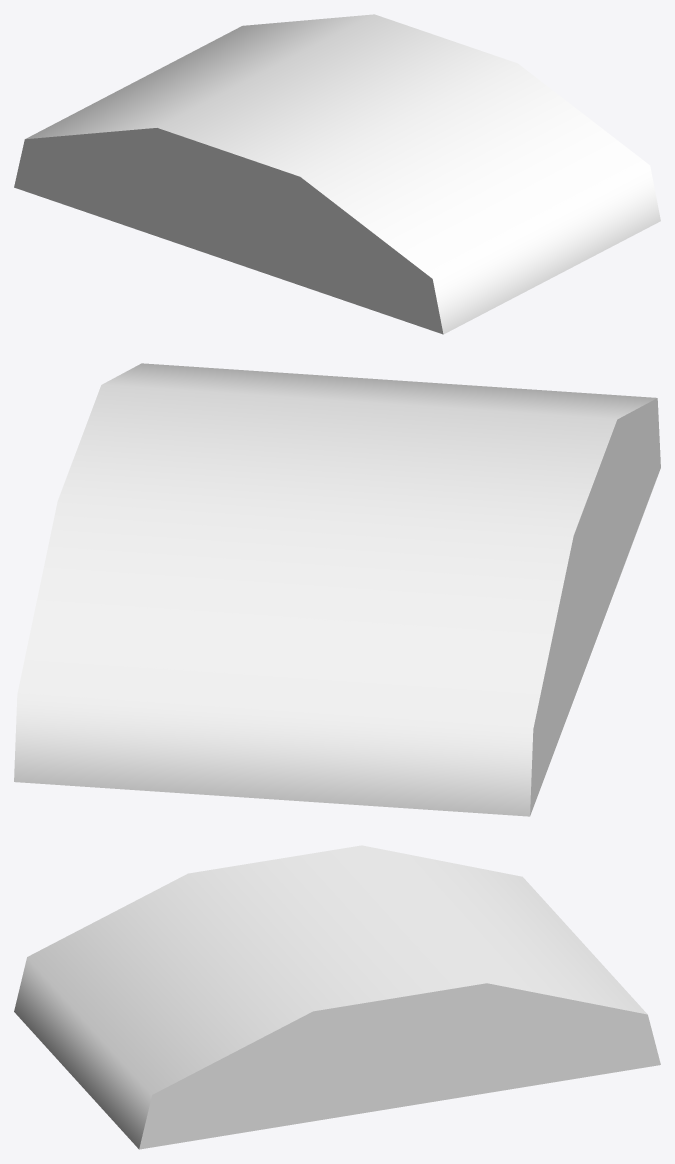
The model's file is mouse.glb.
3 views of the same model, one above another, from view 1: azimuth 30°, elevation 25°; view 2: azimuth 150°, elevation 25°; view 3: azimuth 270°, elevation 25° (orthographic). The views are drawn at different scales.
Visible parts, largest first — view 1: Computer_Mouse_lambert5_0; view 2: Computer_Mouse_lambert5_0; view 3: Computer_Mouse_lambert5_0.
Part boxes in pixels (left/top/right/bottom): Computer_Mouse_lambert5_0: left=14, top=14, right=660, bottom=334; Computer_Mouse_lambert5_0: left=14, top=363, right=660, bottom=816; Computer_Mouse_lambert5_0: left=14, top=845, right=660, bottom=1149.
Size of the model in its own units: 0.0753 by 0.0174 by 0.0926.
1 material, 1 textured.
